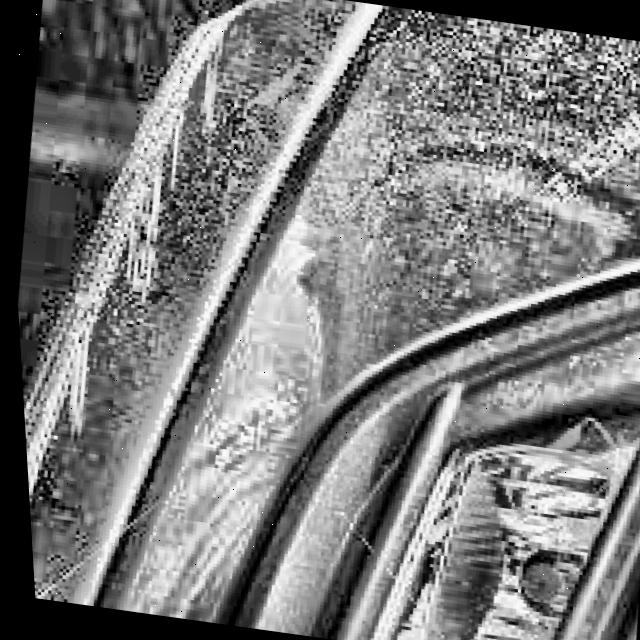bumper_scratch: (84, 73, 229, 304)
